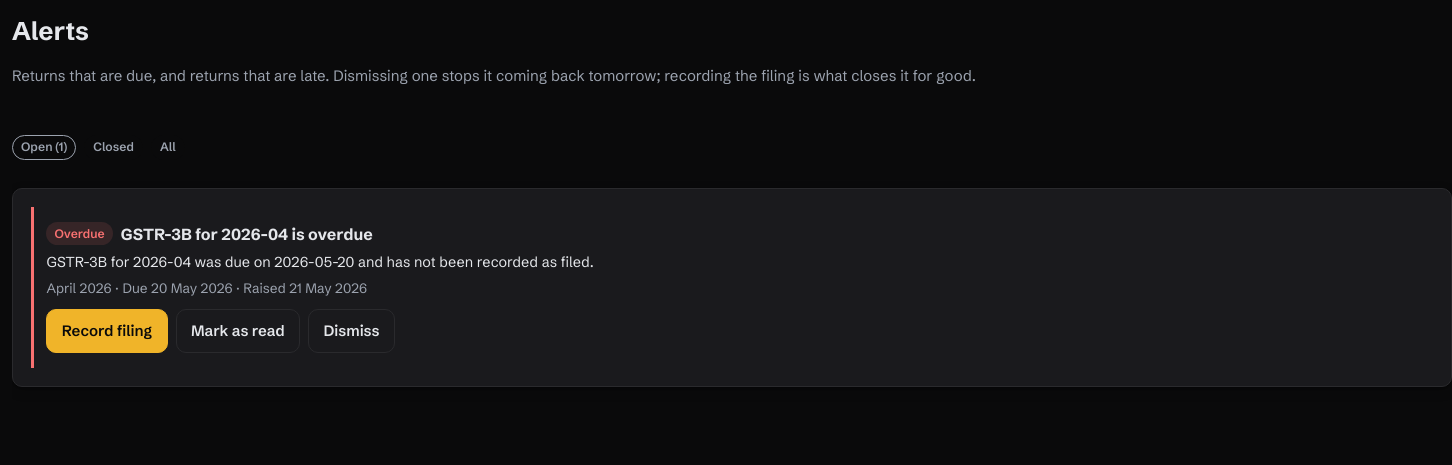
AlertsPage › leaves the row alone when the action fails
Click the button "Dismiss" at (352, 331), box 308,309 -> 395,353
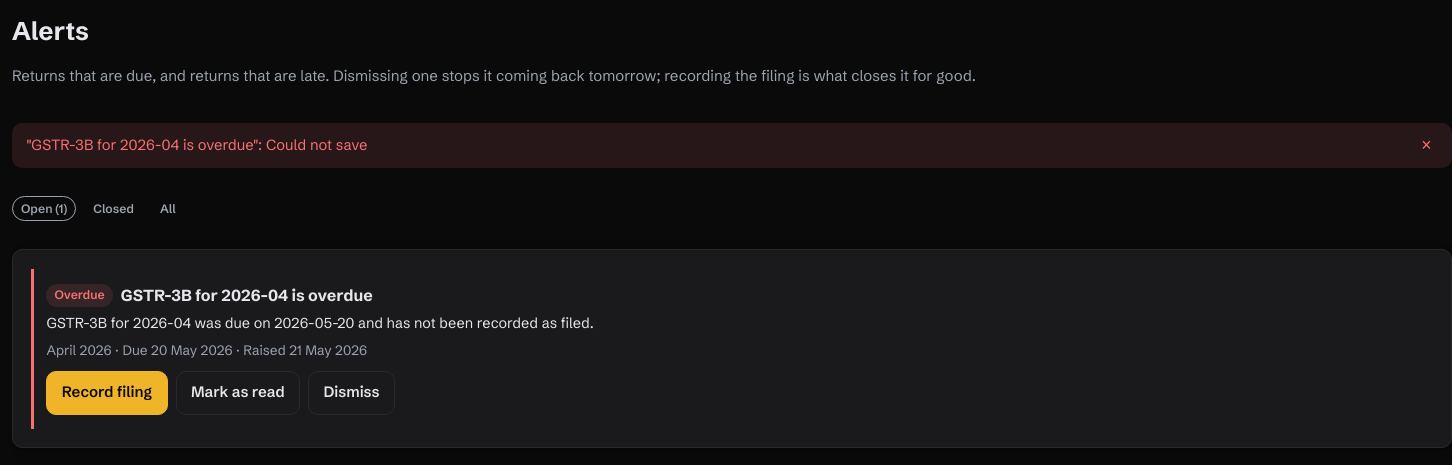
Expected: the heading "GSTR-3B for 2026-04 is overdue" is shown, 121,283 -> 373,307
Expected: the message shows "Could not save", 26,136 -> 368,154
